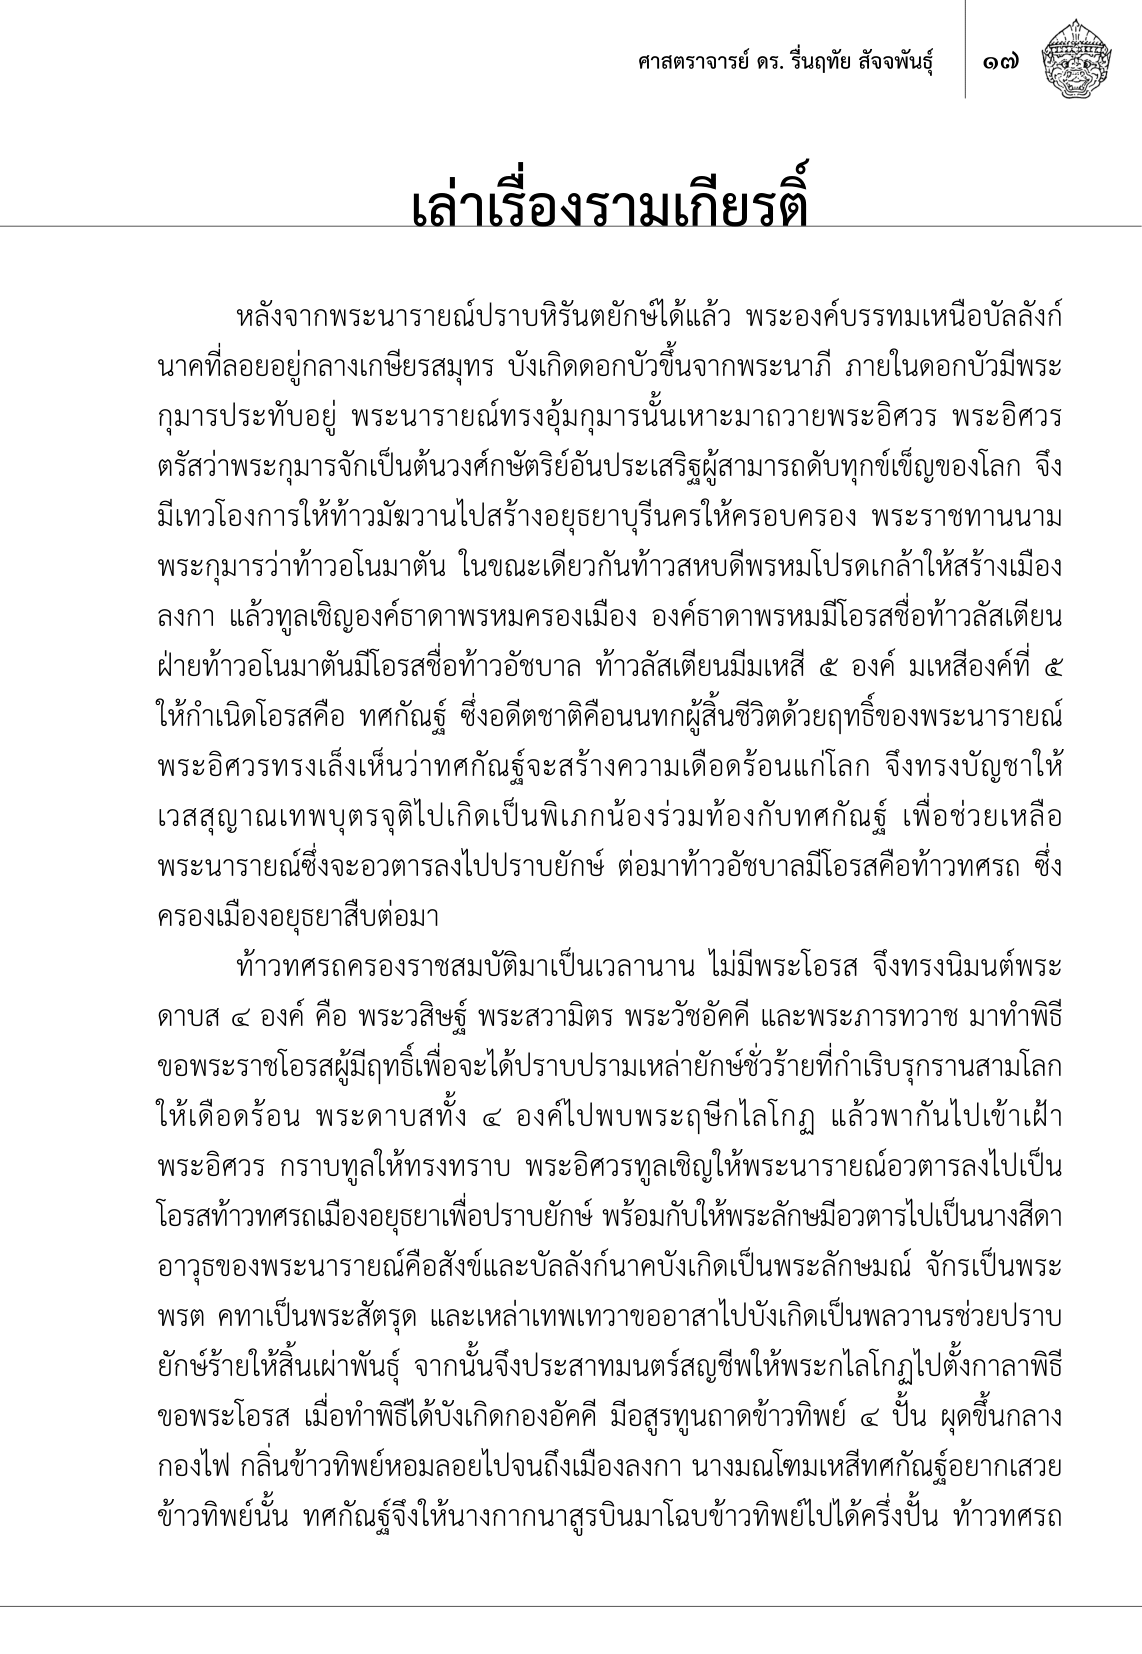thai: (153, 1188, 1067, 1540), (155, 292, 1064, 540), (153, 945, 1067, 1191), (153, 744, 1067, 938), (155, 545, 1065, 739), (411, 152, 812, 234), (634, 36, 936, 77), (982, 41, 1021, 70)
